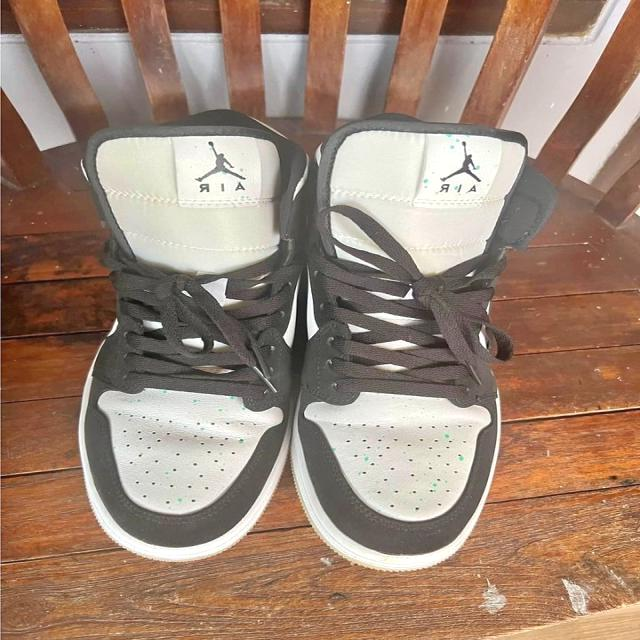nike_fake_jordan: (282, 120, 567, 575), (69, 113, 309, 562)
